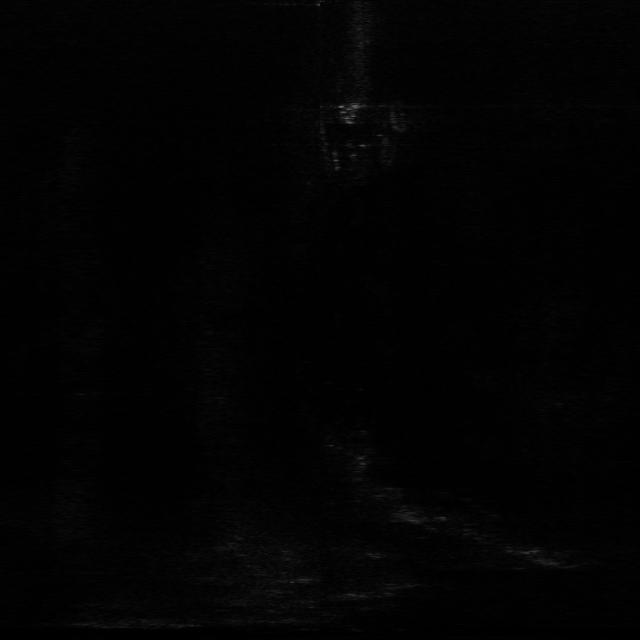rov: (334, 100, 362, 129)
